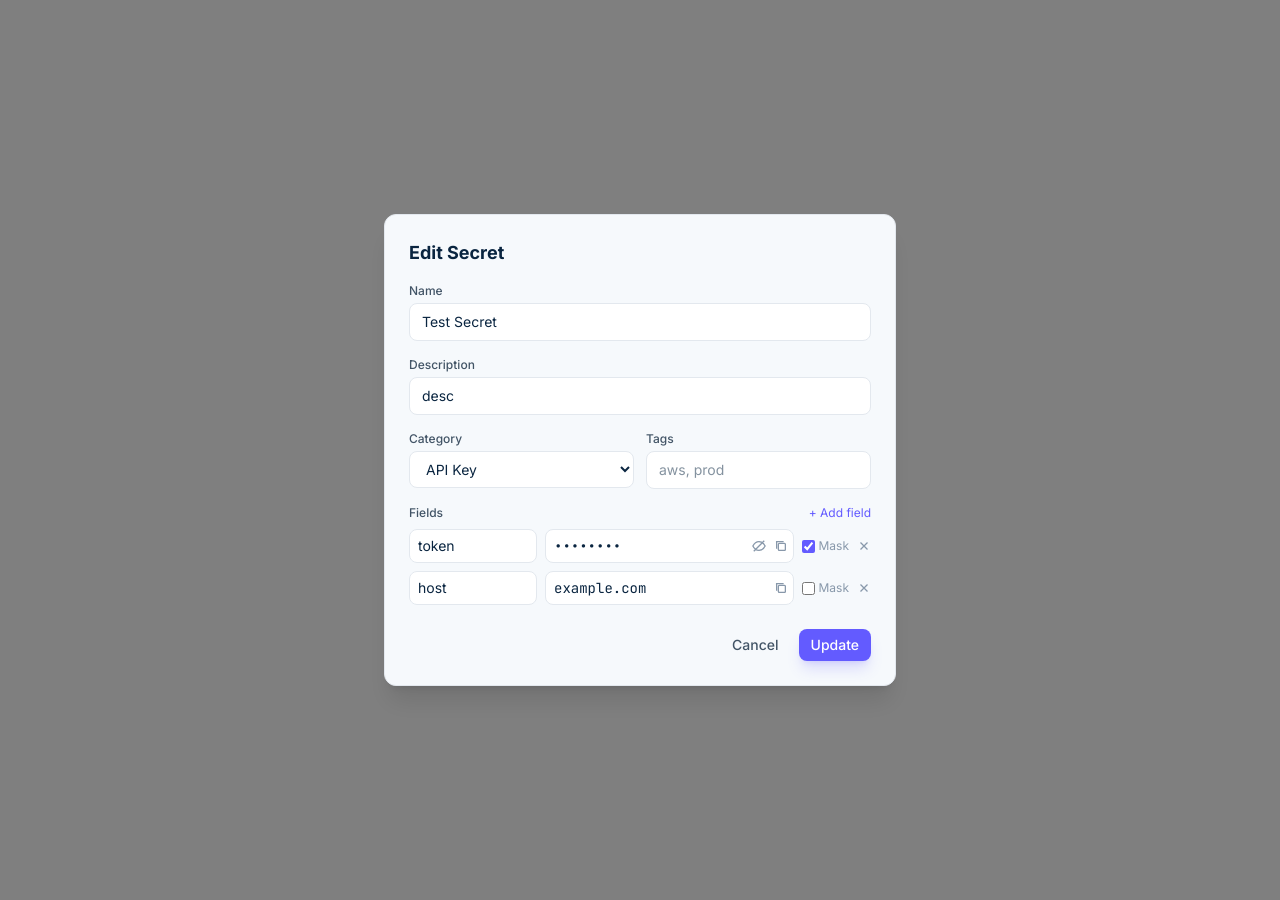
it: VaultForm — masked field security › clicking eye icon reveals the real value
The image size is (1280, 900).
Click the button titled "Reveal" at (758, 546), box x1=750 y1=537 x2=768 y2=555
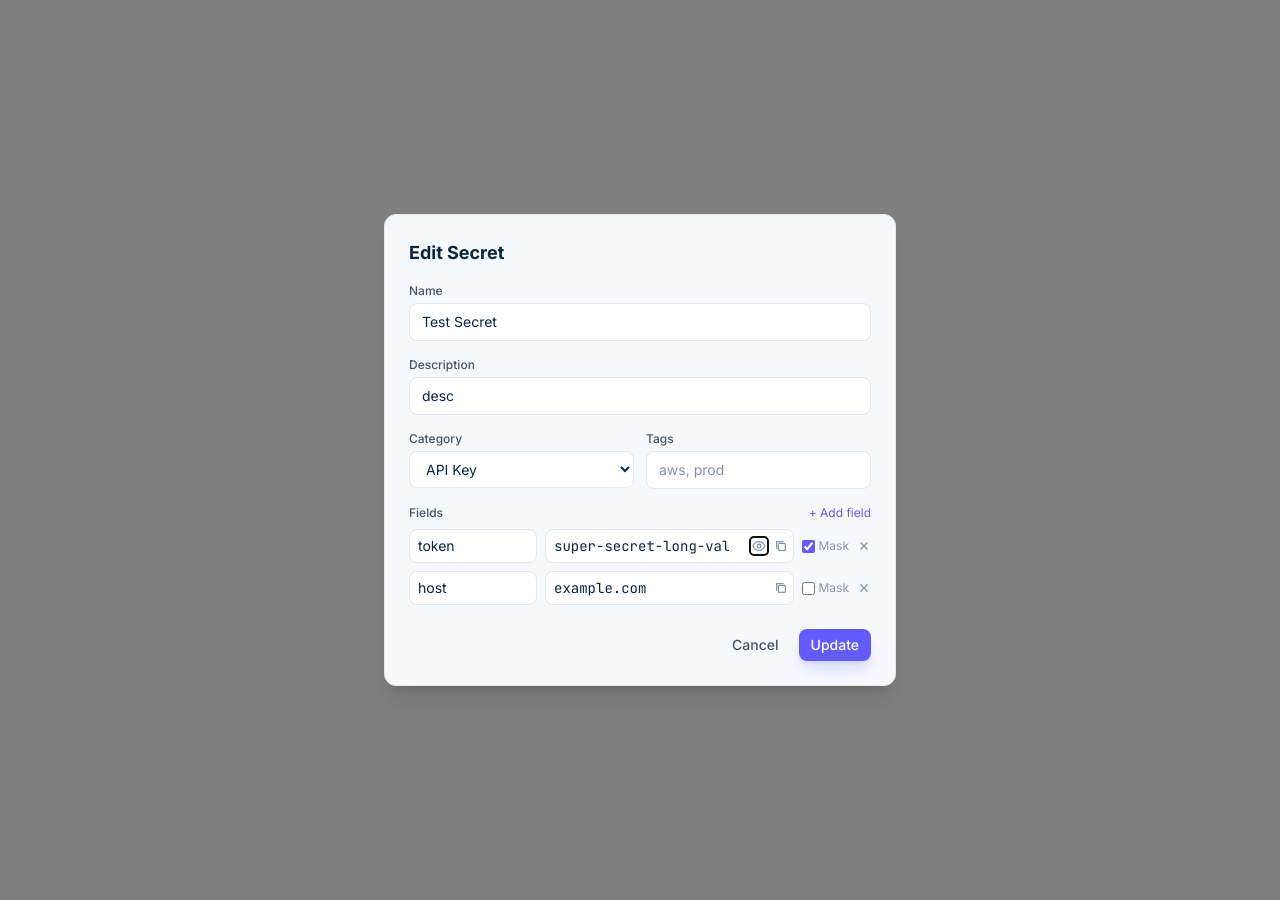
Result: the 4th field with placeholder "Value" holds "super-secret-long-value-42" at x1=545 y1=529 x2=794 y2=563
